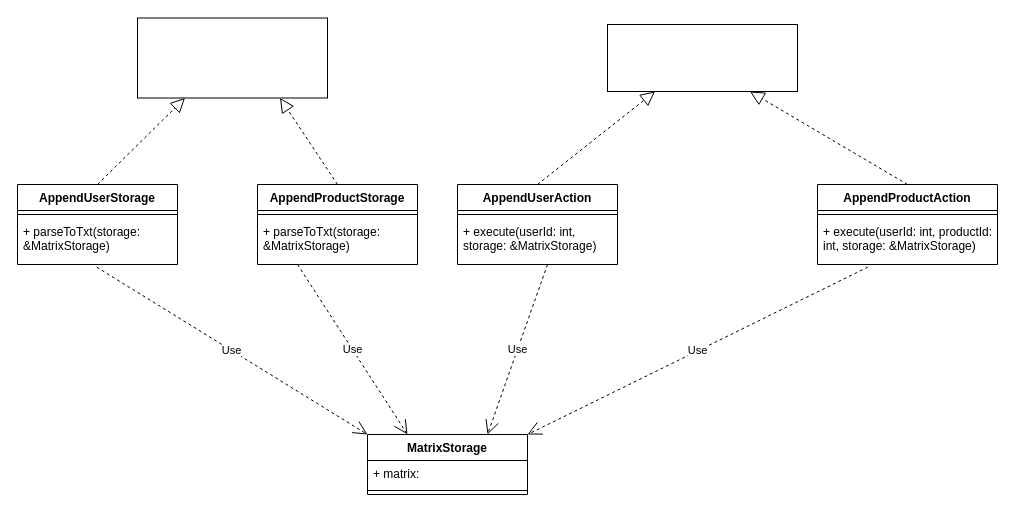
The diagram is 1015 pixels wide and 512 high, and some of its shapes have lost their labels. Here are the shapes that lost their labels. From the top down, the centre of each, then its label:
At (x=232, y=57): "<<Interface>> IDataStorage + parseToTxt()".
At (x=702, y=58): "<<Interface>> IDataAction + execute()".
